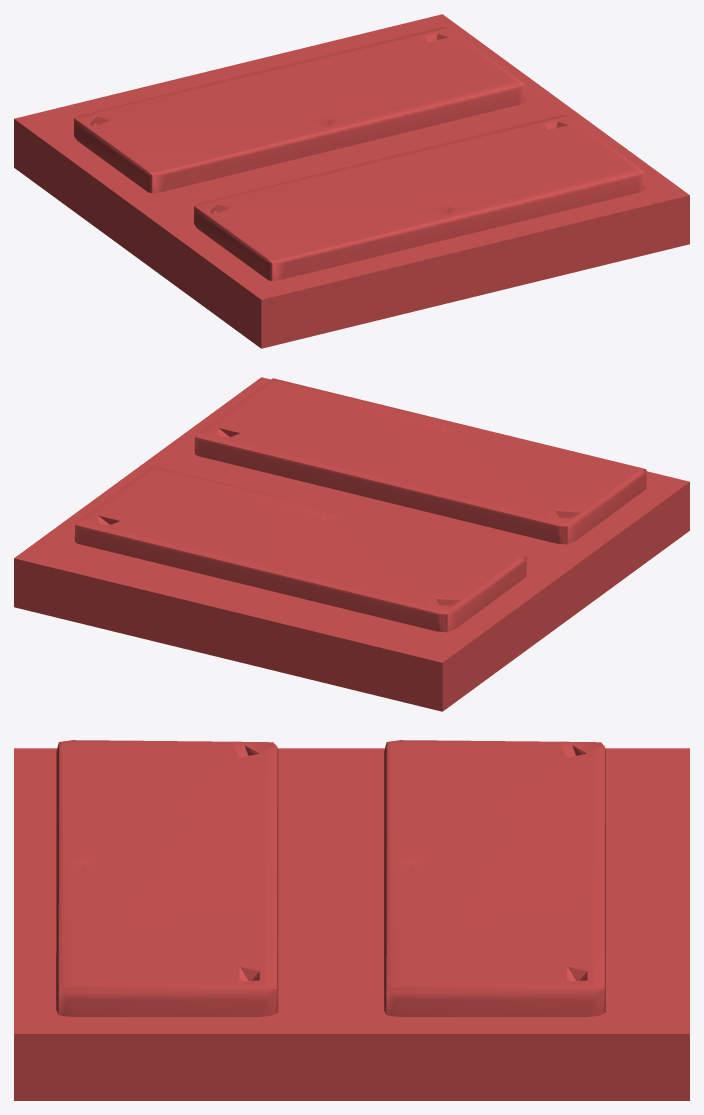
Rendered from Final_ComplexWall_1x1_02.FBX.
The picture shows the model from 3 angles, top to bottom: view 1: azimuth 30°, elevation 25°; view 2: azimuth 150°, elevation 25°; view 3: azimuth 270°, elevation 25°; orthographic projection. The views are drawn at different scales.
Visible parts, largest first — view 1: Final_ComplexWall_1x1_02; view 2: Final_ComplexWall_1x1_02; view 3: Final_ComplexWall_1x1_02.
Part boxes in pixels (box(x1,y1,x2,y2)): Final_ComplexWall_1x1_02: box(14, 14, 689, 348); Final_ComplexWall_1x1_02: box(14, 377, 689, 711); Final_ComplexWall_1x1_02: box(14, 740, 689, 1100).
Bounding box in the file's own units: 200 × 200 × 30.5.
